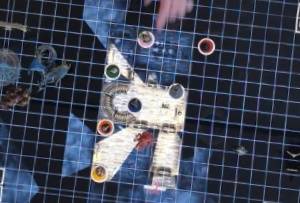blue: (126, 95, 143, 114)
green: (103, 61, 122, 79)
orange: (93, 115, 116, 135)
pink: (135, 26, 156, 48)
red: (195, 33, 218, 56)
violet: (166, 80, 187, 101)
yellow: (89, 162, 111, 181)
